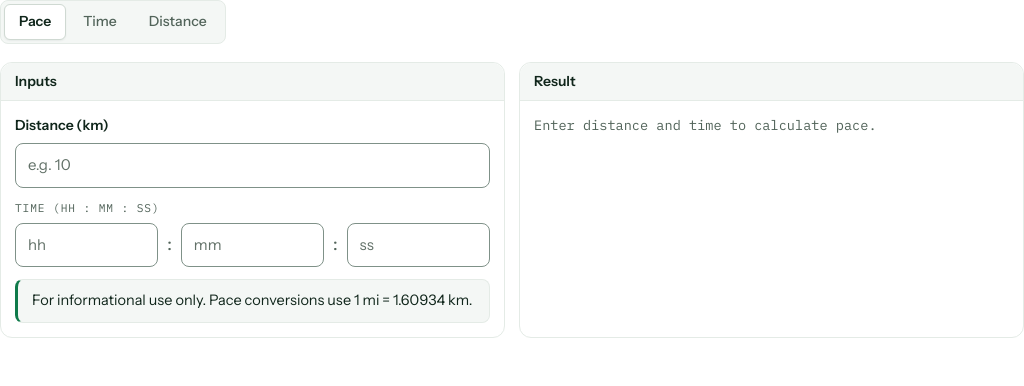
Scenario: PaceCalculator › Time mode (distance + pace → total time) › 42.195 km at 4:15 /km → 2:59:26 total
Click the tab "Time": (100, 22) [68,4,132,40]
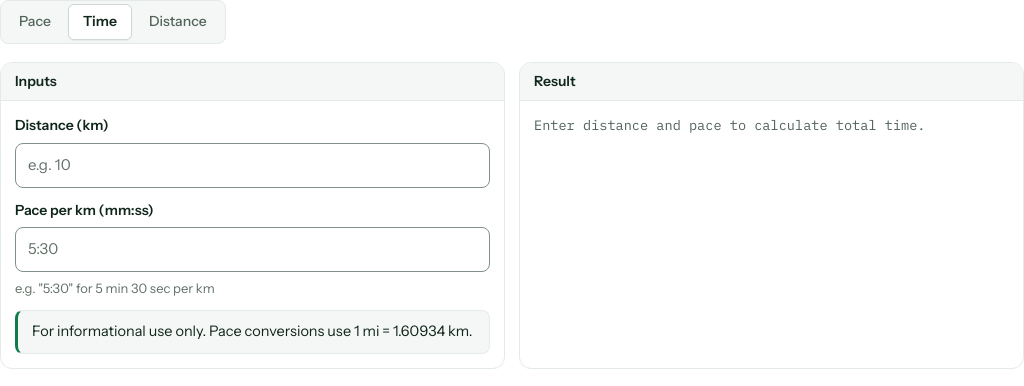
In the number field with placeholder "e.g. 10": (252, 165) [15,143,490,188], type "42.195"
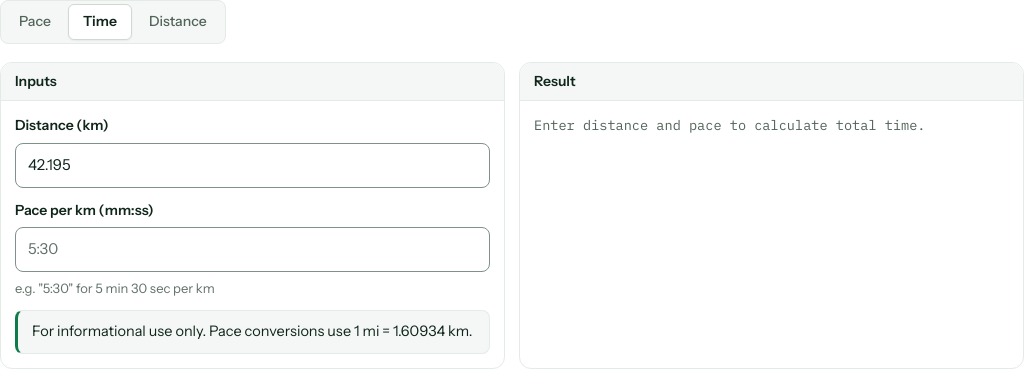
In the field with placeholder "5:30": (252, 250) [15,227,490,272], type "4:15"
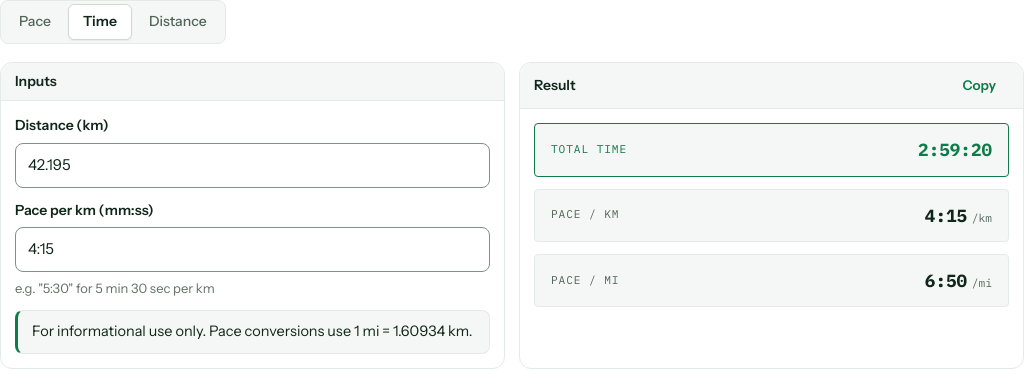
Result: the text "2:59:20" is shown at [918,136,992,164]
